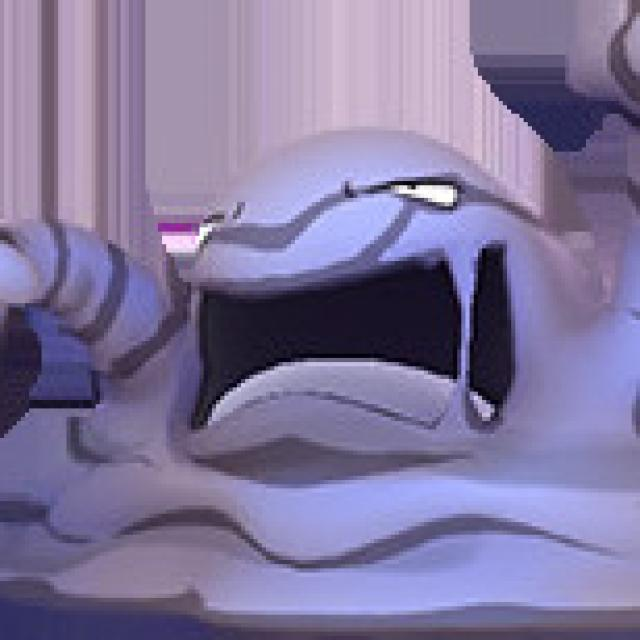Muk: (23, 114, 640, 564)
